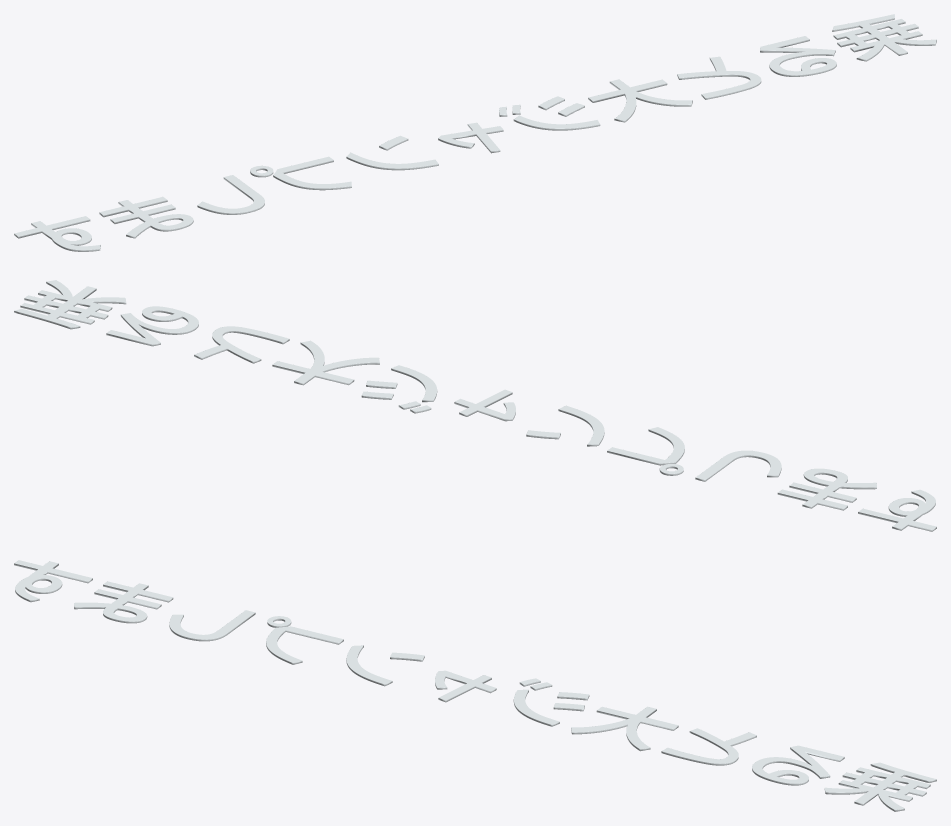
Rendered from stage1_spring_pad_detail.obj.
The picture shows the model from 3 angles, top to bottom: view 1: azimuth 30°, elevation 25°; view 2: azimuth 150°, elevation 25°; view 3: azimuth 330°, elevation 25°; orthographic projection. The views are drawn at different scales.
Parts seen in each view (by area): view 1: stage1_spring_pad_detail; view 2: stage1_spring_pad_detail; view 3: stage1_spring_pad_detail.
Part boxes in pixels (x1=…): stage1_spring_pad_detail: x1=14, y1=14, x2=936, y2=251; stage1_spring_pad_detail: x1=14, y1=280, x2=936, y2=531; stage1_spring_pad_detail: x1=14, y1=560, x2=936, y2=811.
Size of the model in its own units: 4.3 by 0.00866 by 0.3827.
Materials: 1 (1 with a texture image).
